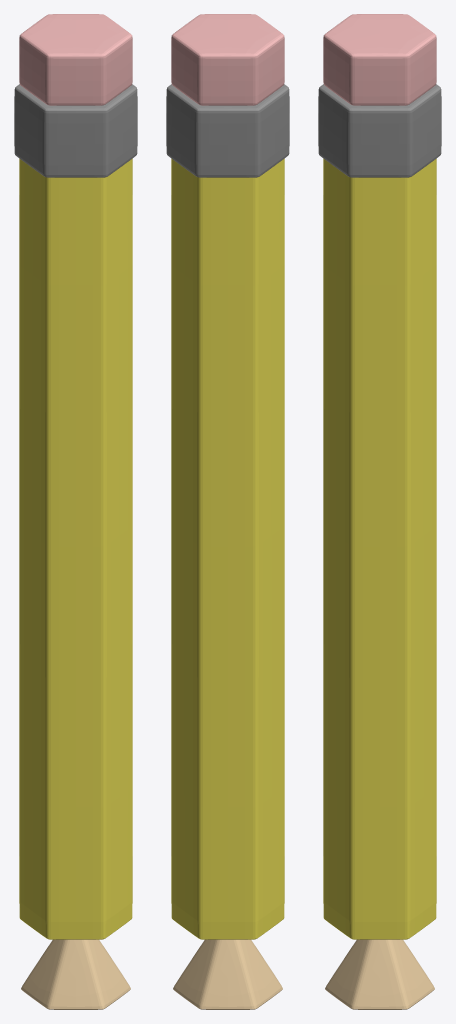
Rendered from pencil.glb.
3 views of the same model, side by side, from view 1: azimuth 90°, elevation 25°; view 2: azimuth 150°, elevation 25°; view 3: azimuth 270°, elevation 25° (orthographic).
Visible parts, largest first — view 1: pencil; view 2: pencil; view 3: pencil.
Boxes of the visible parts, left/top/right/bottom form: pencil: left=14, top=14, right=137, bottom=1009; pencil: left=166, top=14, right=289, bottom=1009; pencil: left=318, top=14, right=441, bottom=1009.
Size of the model in its own units: 0.1125 by 1.09 by 0.1273.
